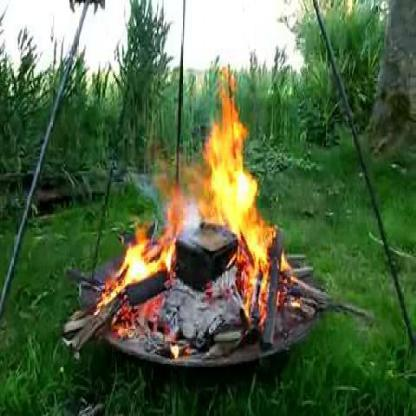Fire: (85, 61, 310, 358)
